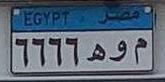6: (65, 36, 81, 67), (14, 36, 29, 68), (48, 36, 63, 67), (31, 37, 46, 67)
haa: (85, 42, 106, 67)
meem: (132, 37, 148, 66)
waw: (108, 38, 127, 65)
